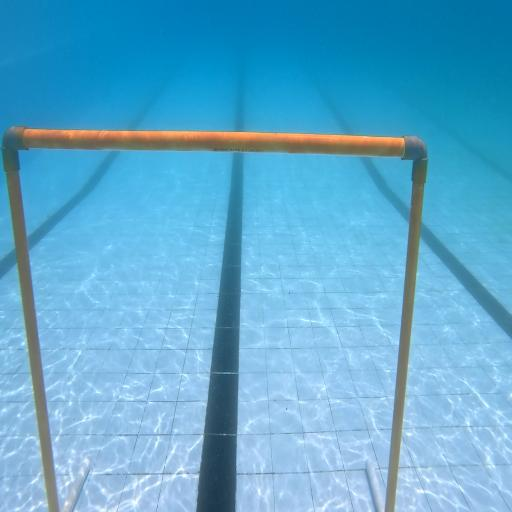gate: (2, 127, 428, 512)
